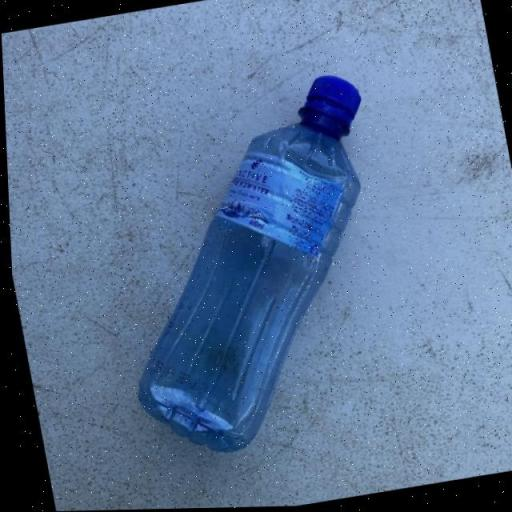plastic: (82, 69, 418, 467)
